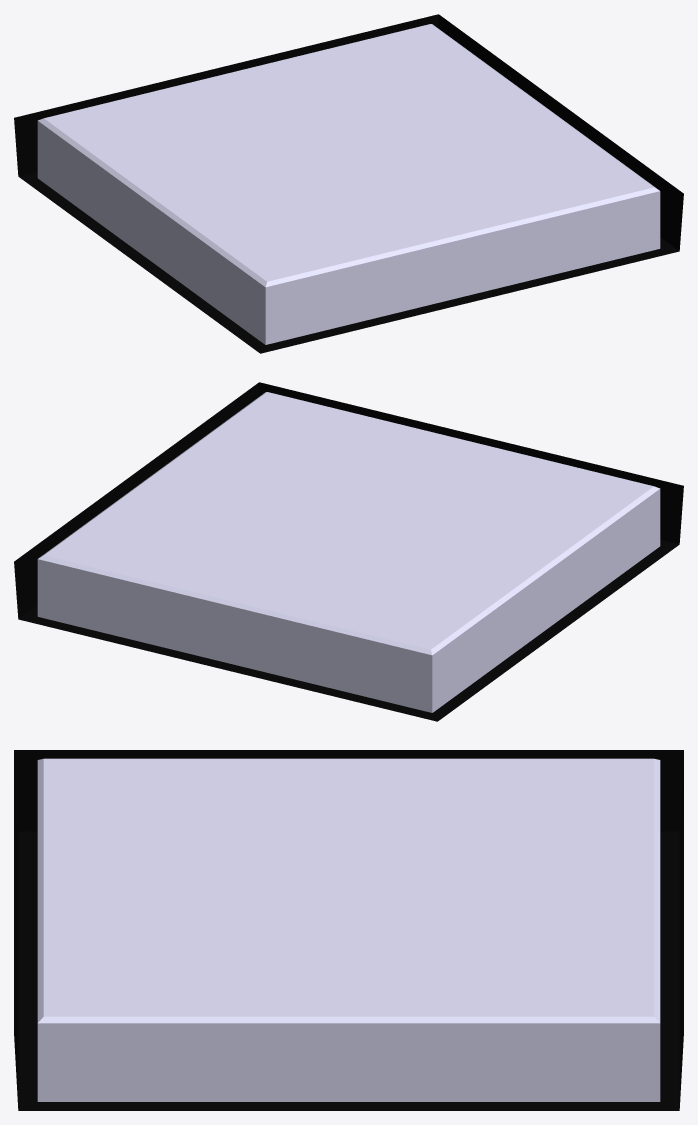
Rendered from pressurePlateButton.fbx.
The picture shows the model from 3 angles, top to bottom: view 1: azimuth 30°, elevation 25°; view 2: azimuth 150°, elevation 25°; view 3: azimuth 270°, elevation 25°; orthographic projection. The views are drawn at different scales.
Parts seen in each view (by area): view 1: Button, ButtonOutline; view 2: Button, ButtonOutline; view 3: Button, ButtonOutline.
Boxes of the visible parts, x1,y1,x2,y2 form: Button: (37, 24, 660, 344); ButtonOutline: (14, 14, 683, 353); Button: (37, 392, 660, 712); ButtonOutline: (14, 382, 683, 721); Button: (37, 758, 660, 1101); ButtonOutline: (14, 750, 683, 1110).
Size of the model in its own units: 235 by 32.61 by 235.
